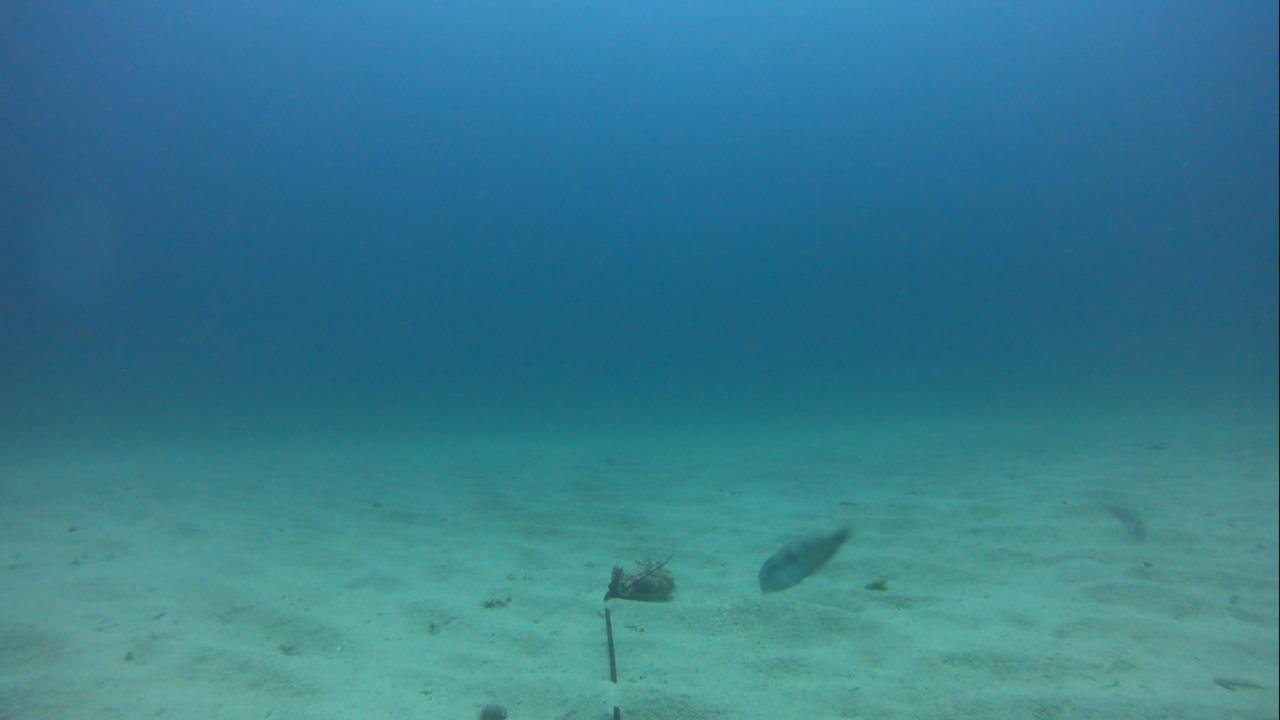raor: (756, 525, 852, 594), (1095, 495, 1149, 547)
